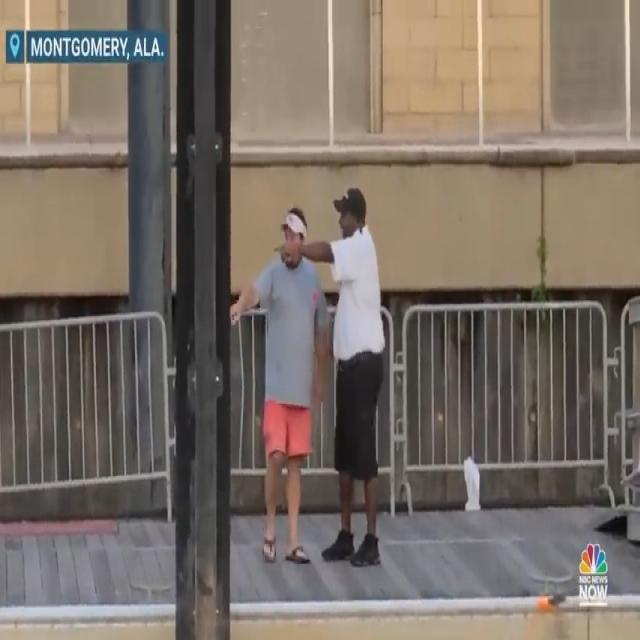non-fight: (229, 183, 390, 572)
